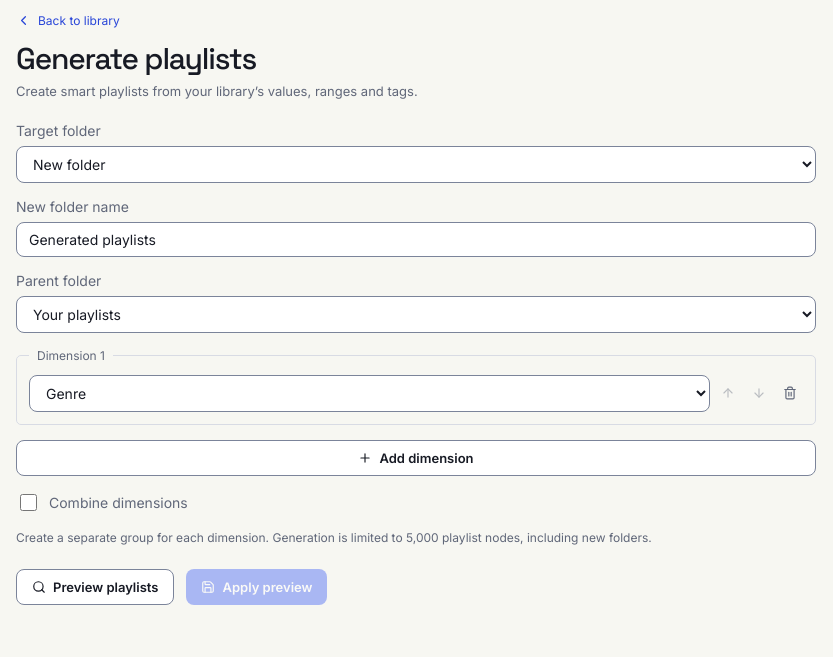
Test: smart playlist generation › labels the full energy range as the whole-track rating, 1 to 10, and the star range as 0 to 5
Select "Energy" in the dropdown named "Generation dimension 1" at (370, 393), box [29,374,710,412]
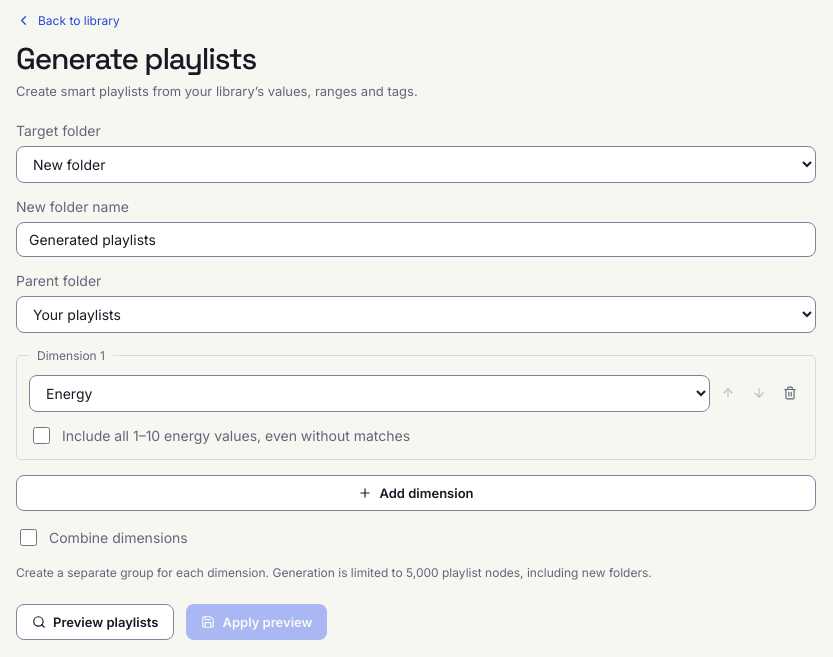
expect the label named "Include unobserved values for dimension 1" reads "Include all 1–10 energy values, even without matches": met, box [33,426,410,444]
Select "Rating" in the dropdown named "Generation dimension 1" at (370, 393), box [29,374,710,412]
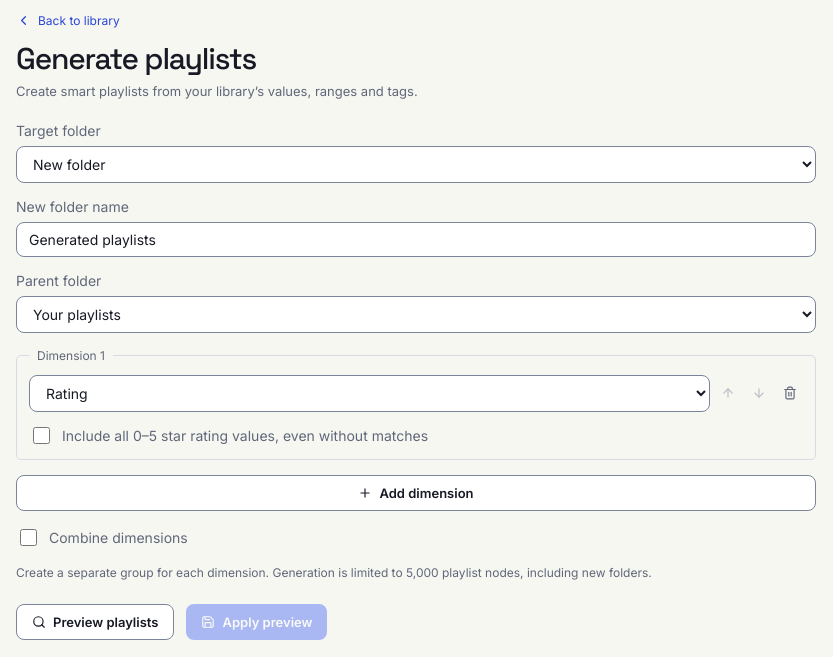
expect the label named "Include unobserved values for dimension 1" reads "Include all 0–5 star rating values, even without matches": met, box [33,426,428,444]
